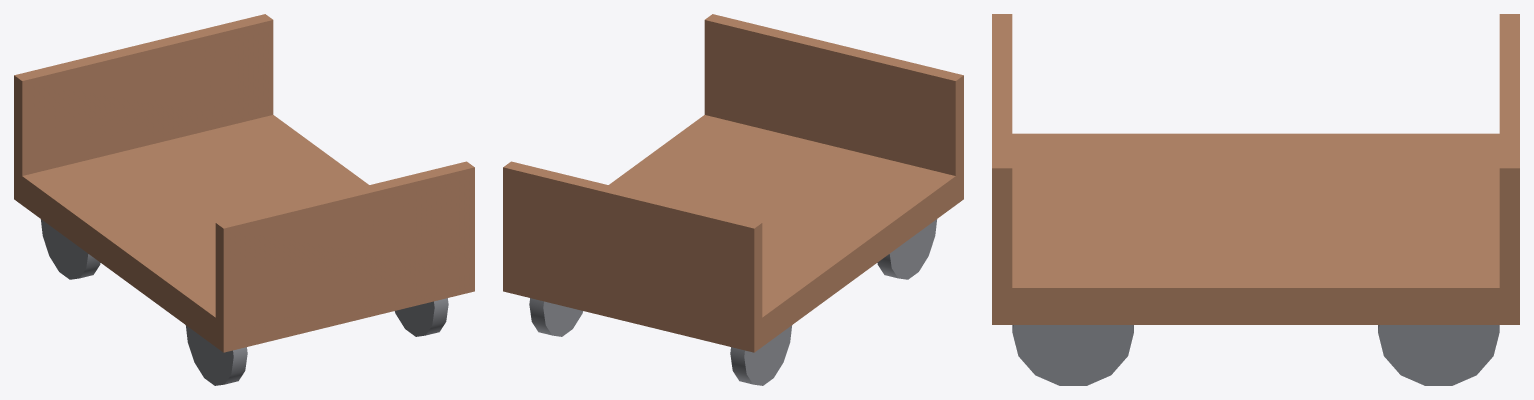
File: rail_cart.glb
3 views of the same model, side by side, from view 1: azimuth 30°, elevation 25°; view 2: azimuth 150°, elevation 25°; view 3: azimuth 270°, elevation 25° (orthographic). The views are drawn at different scales.
Parts seen in each view (by area): view 1: rail_cart; view 2: rail_cart; view 3: rail_cart.
Boxes of the visible parts, x1,y1,x2,y2 form: rail_cart: (14,14,474,385); rail_cart: (503,14,963,385); rail_cart: (992,14,1519,385).
Bounding box in the file's own units: 1.8 × 1.24 × 2.6.
